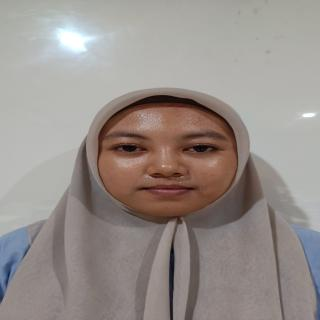Netral: (90, 101, 261, 224)
